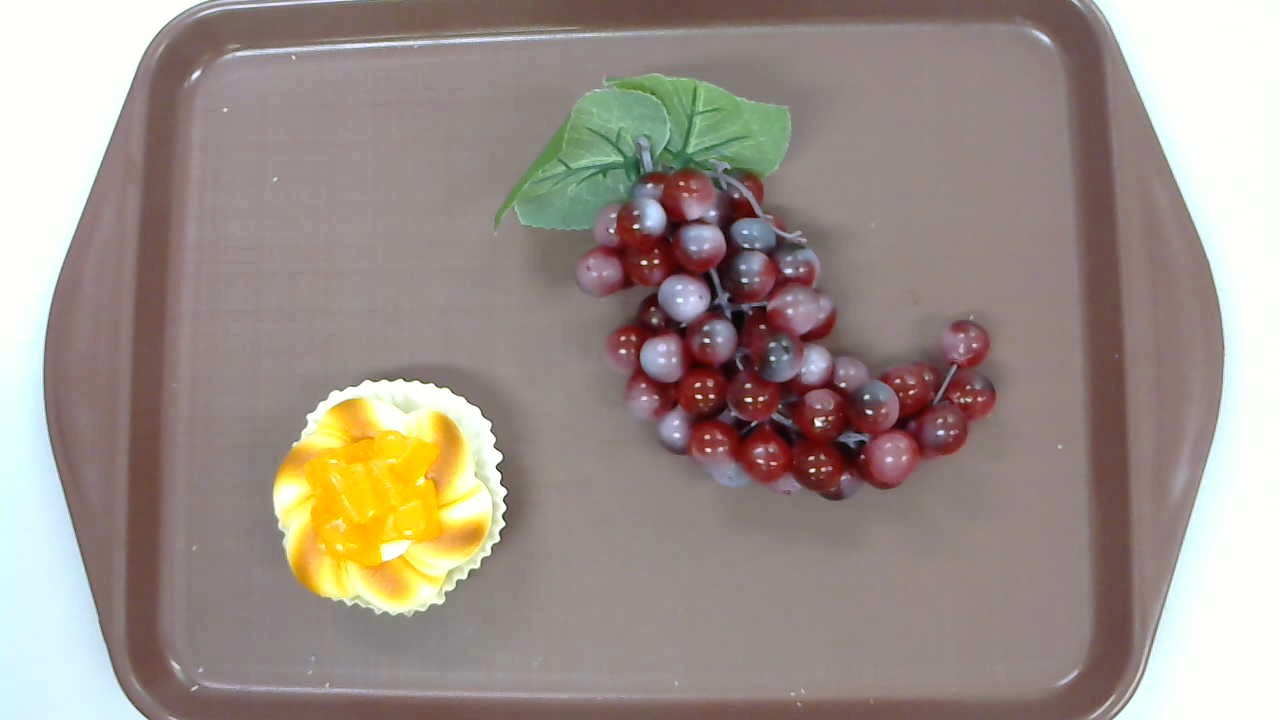grape: (493, 73, 998, 503)
mango tart: (272, 379, 508, 618)
